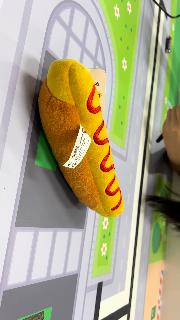hotdog: (38, 59, 126, 219)
